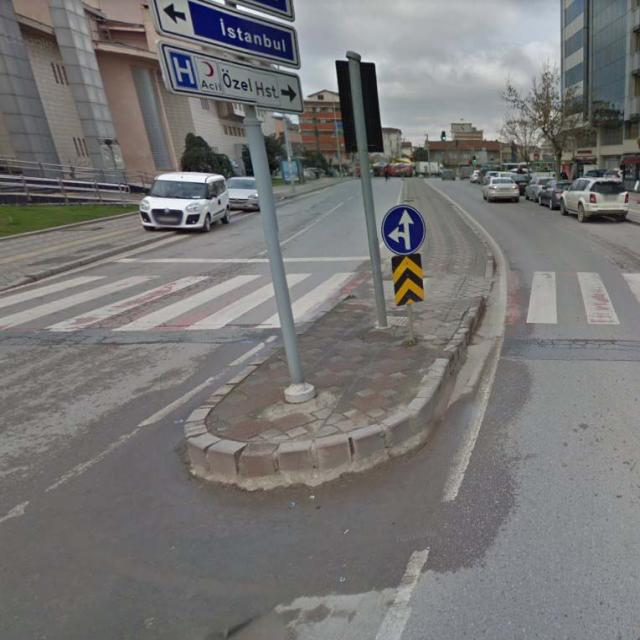ilerisol: (379, 207, 424, 251)
